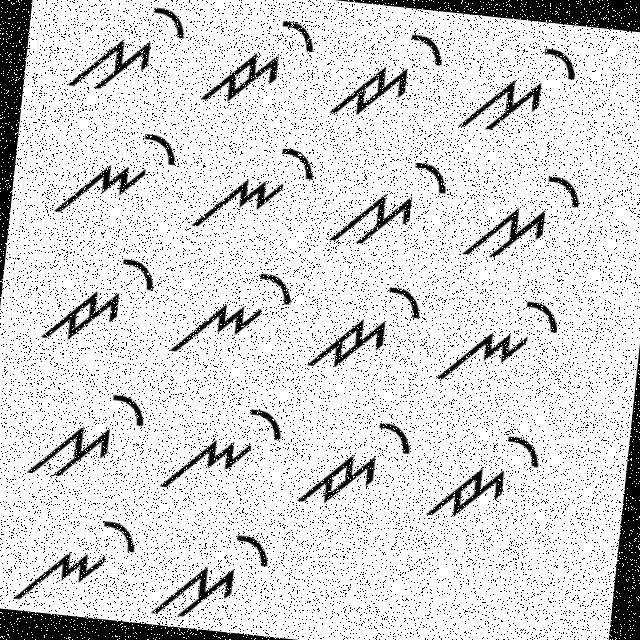jay: (29, 239, 164, 354), (292, 411, 417, 525), (424, 424, 550, 534), (300, 273, 424, 382), (198, 8, 322, 116), (326, 25, 448, 127)
nyay: (45, 113, 178, 233), (8, 496, 142, 614), (158, 386, 286, 502), (167, 256, 296, 371), (433, 286, 565, 396), (190, 132, 317, 239)
say: (448, 32, 582, 145), (60, 0, 193, 109), (150, 520, 278, 631), (326, 146, 453, 255), (18, 383, 148, 489), (462, 164, 589, 270)
